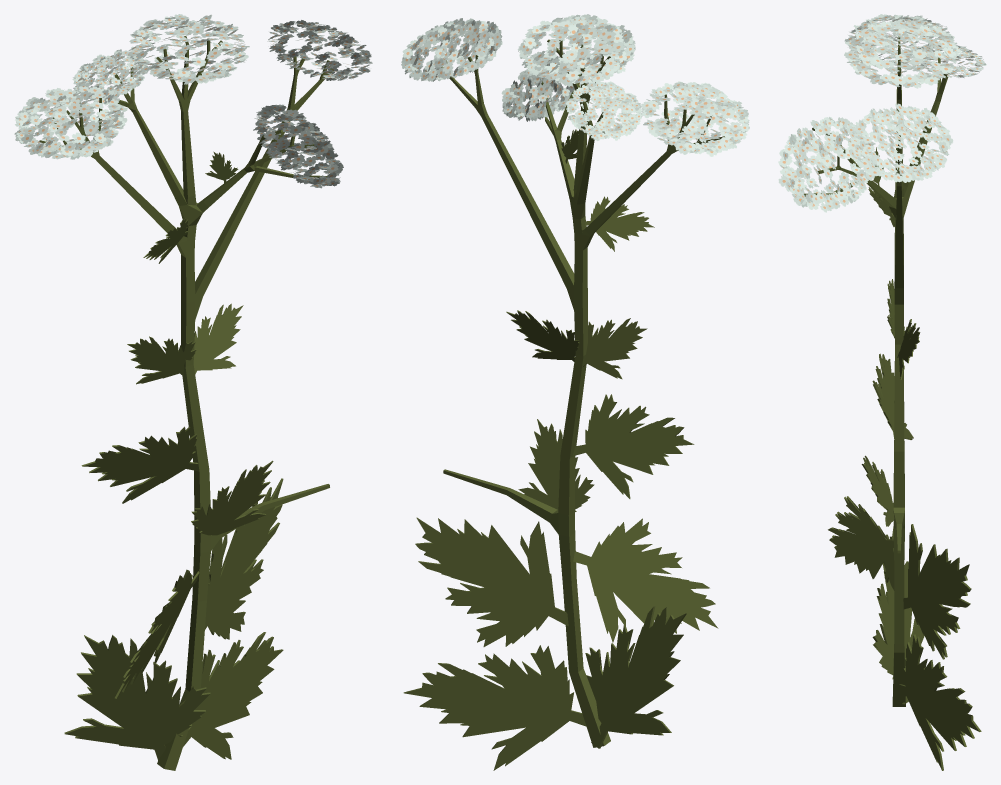
Rendered from yarrow.fbx.
3 views of the same model, side by side, from view 1: azimuth 30°, elevation 25°; view 2: azimuth 150°, elevation 25°; view 3: azimuth 270°, elevation 25° (orthographic). The views are drawn at different scales.
Parts seen in each view (by area): view 1: Plane.007; view 2: Plane.007; view 3: Plane.007.
Boxes of the visible parts, left/top/right/bottom form: Plane.007: left=14, top=14, right=372, bottom=770; Plane.007: left=401, top=14, right=749, bottom=770; Plane.007: left=778, top=14, right=986, bottom=770.
Size of the model in its own units: 223 by 478 by 127.
